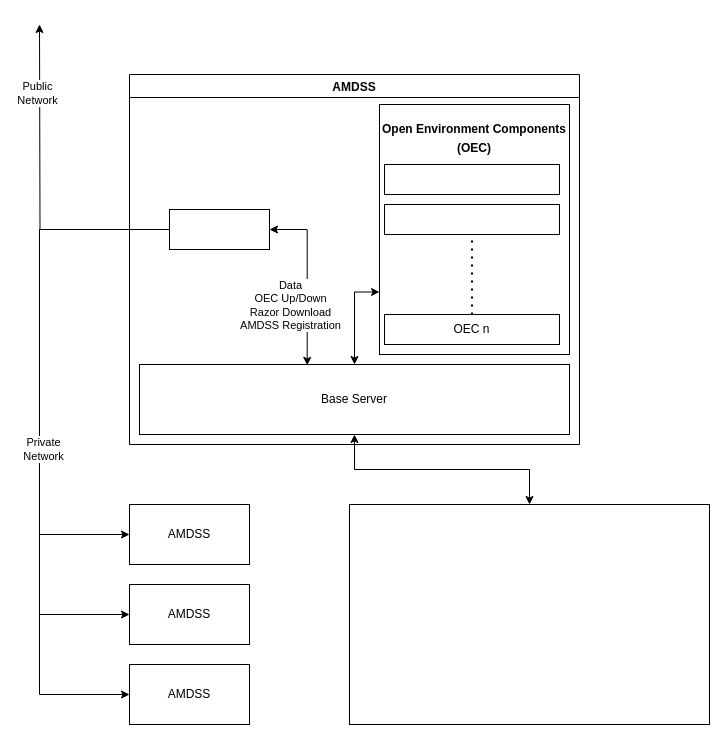
Image size: 727x742. Some labels were removed from this diagram. The box of each missing label's shape, as (x1, y1, x2, y2) in pixels:
OEC 1: (384, 164, 560, 194)
OEC 2: (384, 204, 560, 234)
Security: (168, 208, 270, 250)
UI Input + Razor Pages: (348, 504, 710, 724)
